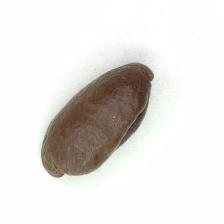NG: (112, 74, 156, 154)
